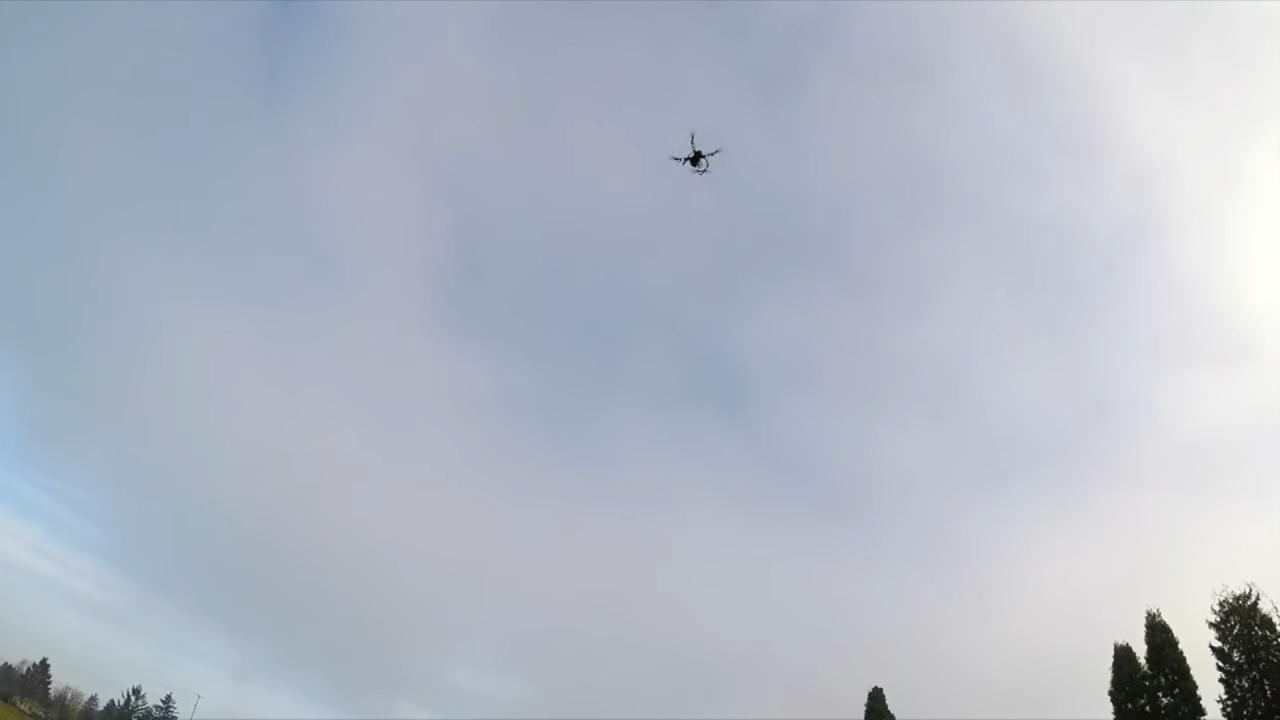Drone: (666, 126, 729, 181)
